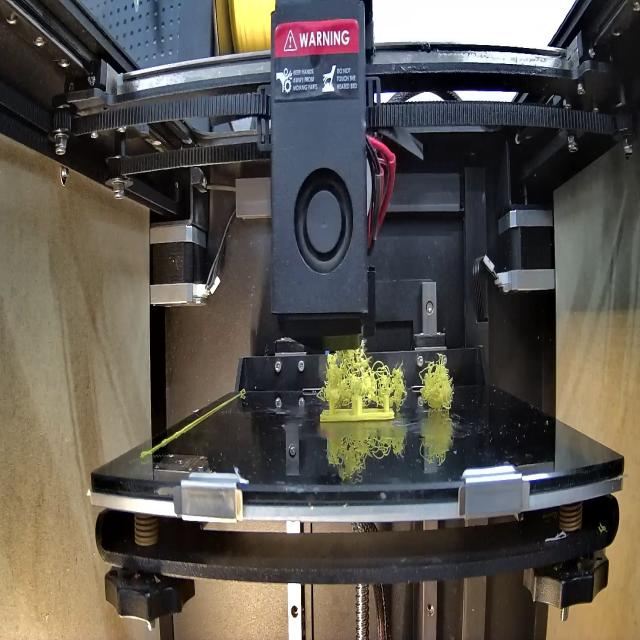spaghetti: (320, 345, 408, 404), (422, 352, 458, 409)
